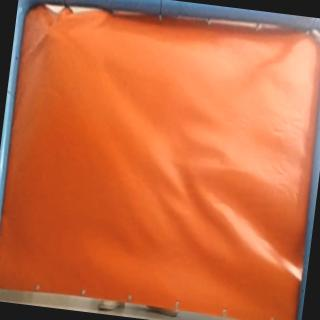Hit-hRxx: (40, 27, 56, 40)
